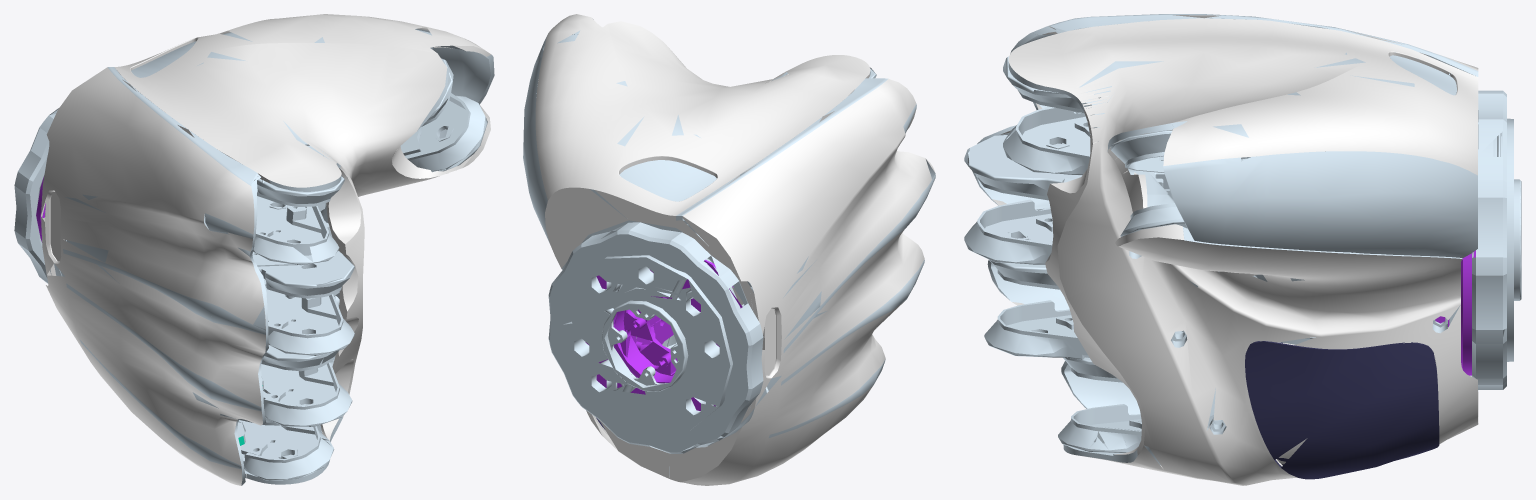
File: hit-hand-2-palm-right_old.dae
The picture shows the model from 3 angles, left to right: view 1: azimuth 30°, elevation 25°; view 2: azimuth 150°, elevation 25°; view 3: azimuth 270°, elevation 25°; orthographic projection. The views are drawn at different scales.
Parts seen in each view (by area): view 1: IndexedTriangleStripSet_8, IndexedTriangleStripSet_18, IndexedTriangleStripSet_6, IndexedTriangleStripSet_16, IndexedTriangleStripSet_28, IndexedTriangleStripSet_26, IndexedTriangleStripSet_38, IndexedTriangleStripSet_36; view 2: IndexedTriangleStripSet_8, IndexedTriangleStripSet_6, IndexedTriangleStripSet_18, IndexedTriangleStripSet_28, IndexedTriangleStripSet_16, IndexedTriangleStripSet_26, IndexedTriangleStripSet_38, IndexedTriangleStripSet_4, IndexedTriangleStripSet_36, IndexedTriangleStripSet_24, IndexedTriangleStripSet_14; view 3: IndexedTriangleStripSet_8, IndexedTriangleStripSet_6, IndexedTriangleStripSet_18, IndexedTriangleStripSet_16, IndexedTriangleStripSet_2, IndexedTriangleStripSet_26, IndexedTriangleStripSet_28, IndexedTriangleStripSet_12, IndexedTriangleStripSet_38, IndexedTriangleStripSet_36, IndexedTriangleStripSet_22.
Part boxes in pixels (x1,y1,x2,y2): IndexedTriangleStripSet_8: [41, 14, 491, 483]; IndexedTriangleStripSet_18: [42, 15, 486, 485]; IndexedTriangleStripSet_6: [14, 30, 494, 485]; IndexedTriangleStripSet_16: [14, 29, 492, 484]; IndexedTriangleStripSet_28: [42, 15, 490, 485]; IndexedTriangleStripSet_26: [14, 28, 490, 485]; IndexedTriangleStripSet_38: [50, 22, 472, 440]; IndexedTriangleStripSet_36: [14, 31, 487, 479]; IndexedTriangleStripSet_8: [535, 14, 934, 484]; IndexedTriangleStripSet_6: [523, 33, 935, 452]; IndexedTriangleStripSet_18: [535, 14, 927, 485]; IndexedTriangleStripSet_28: [536, 23, 934, 485]; IndexedTriangleStripSet_16: [523, 30, 933, 474]; IndexedTriangleStripSet_26: [523, 41, 935, 453]; IndexedTriangleStripSet_38: [537, 24, 913, 481]; IndexedTriangleStripSet_4: [596, 261, 742, 410]; IndexedTriangleStripSet_36: [529, 19, 928, 441]; IndexedTriangleStripSet_24: [585, 260, 719, 377]; IndexedTriangleStripSet_14: [596, 259, 733, 381]; IndexedTriangleStripSet_8: [992, 15, 1478, 485]; IndexedTriangleStripSet_6: [964, 14, 1521, 465]; IndexedTriangleStripSet_18: [1008, 15, 1478, 482]; IndexedTriangleStripSet_16: [964, 14, 1521, 463]; IndexedTriangleStripSet_2: [1245, 341, 1439, 479]; IndexedTriangleStripSet_26: [964, 14, 1521, 462]; IndexedTriangleStripSet_28: [1046, 18, 1478, 485]; IndexedTriangleStripSet_12: [1256, 342, 1439, 479]; IndexedTriangleStripSet_38: [1014, 18, 1477, 481]; IndexedTriangleStripSet_36: [964, 15, 1513, 460]; IndexedTriangleStripSet_22: [1246, 342, 1391, 479].
Size of the model in its own units: 0.1249 by 0.1272 by 0.1442.
